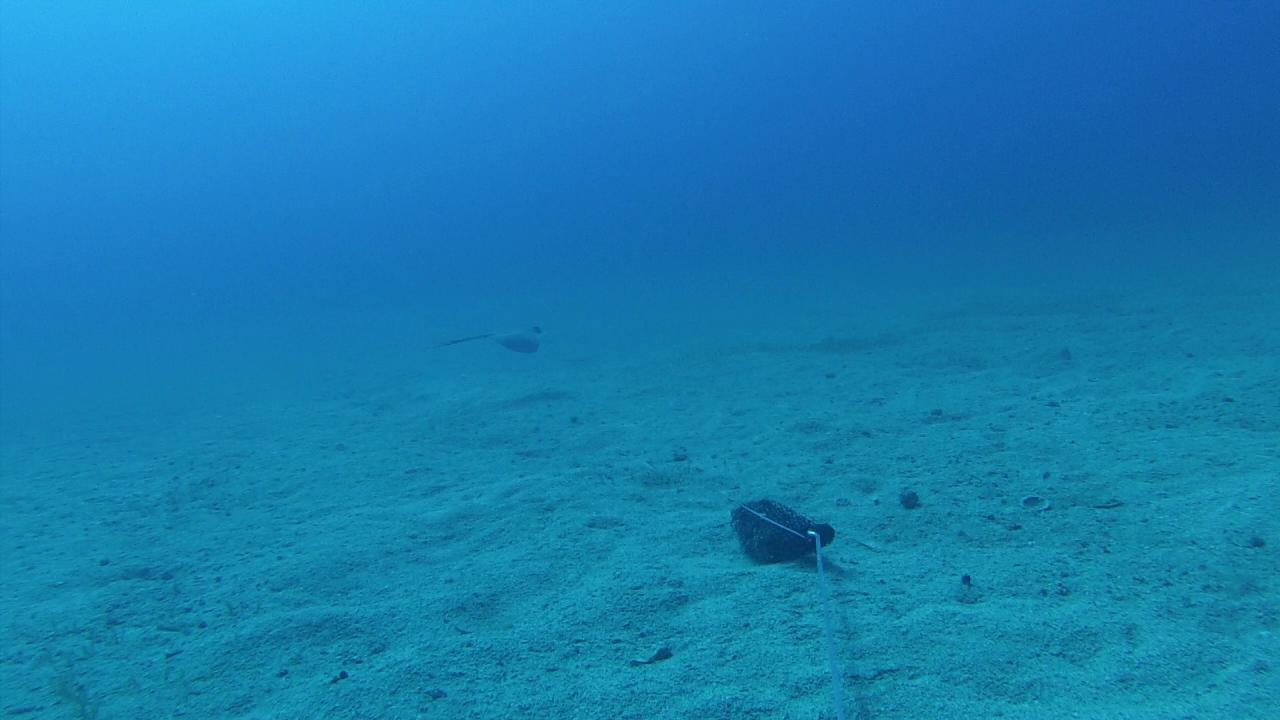dasyatis: (427, 322, 550, 354)
